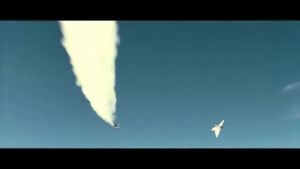flight: (210, 118, 226, 139)
